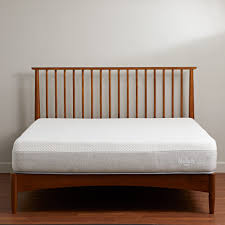bed-matress: (11, 115, 218, 174)
